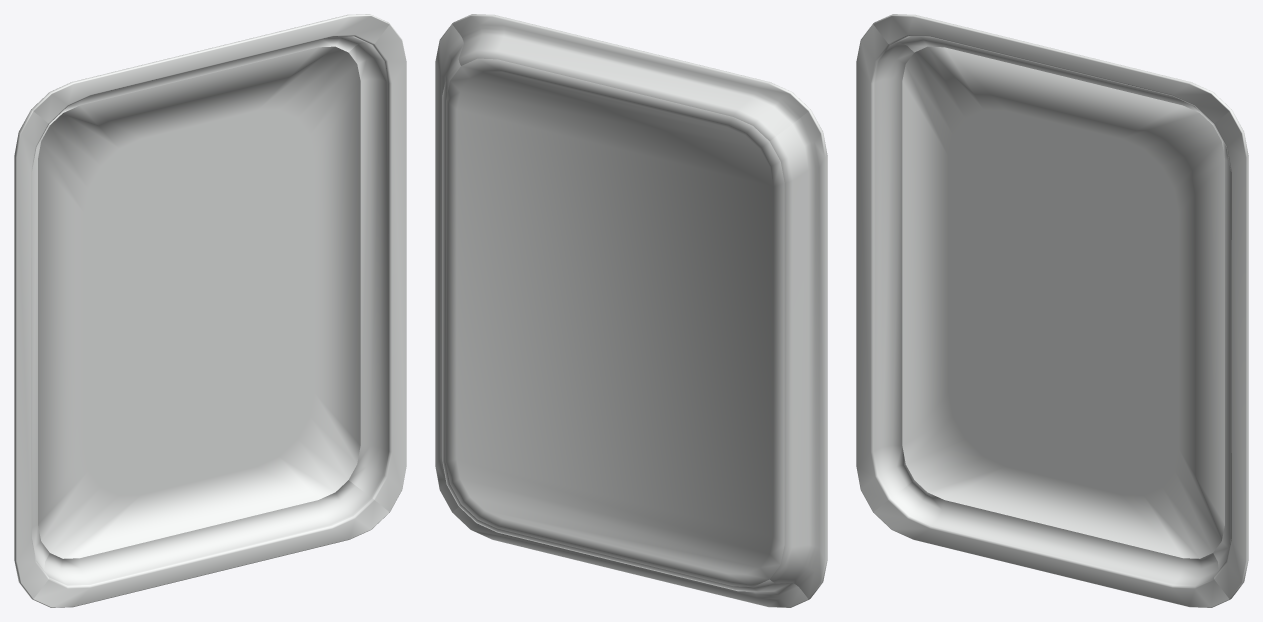
3 views of the same model, side by side, from view 1: azimuth 30°, elevation 25°; view 2: azimuth 150°, elevation 25°; view 3: azimuth 330°, elevation 25° (orthographic).
Visible parts, largest first — view 1: Tray_Tray_MAT_0; view 2: Tray_Tray_MAT_0; view 3: Tray_Tray_MAT_0.
Part boxes in pixels (x1,y1,x2,y2): Tray_Tray_MAT_0: [14, 14, 406, 607]; Tray_Tray_MAT_0: [435, 14, 827, 607]; Tray_Tray_MAT_0: [856, 14, 1248, 607].
Size of the model in its own units: 0.2767 by 0.3544 by 0.0215.
Materials: 1 (1 with a texture image).
